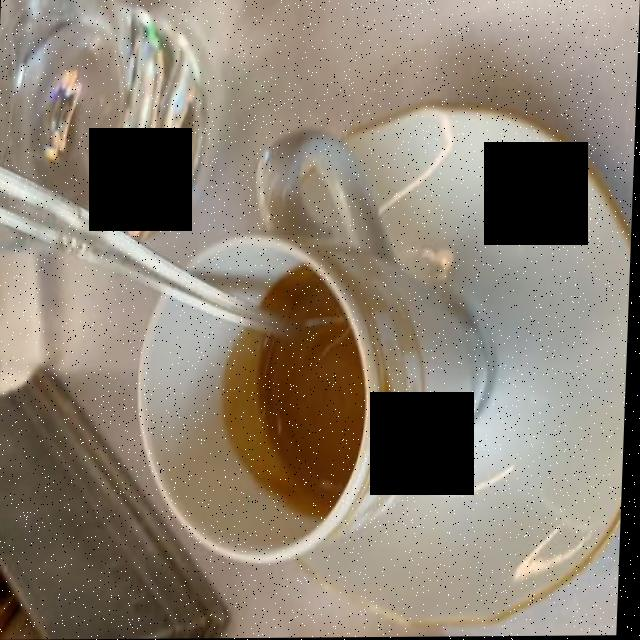coffee-with-caffeine: (254, 273, 364, 517)
